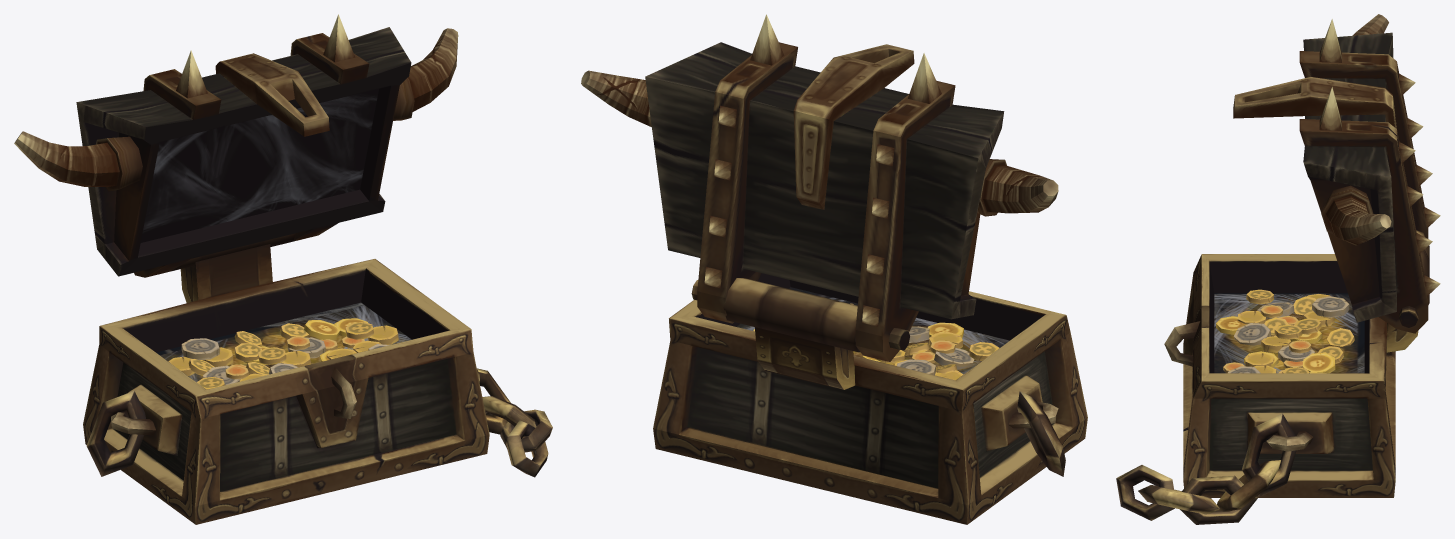
Rendered from Chest_2_gold.FBX.
The picture shows the model from 3 angles, left to right: view 1: azimuth 30°, elevation 25°; view 2: azimuth 150°, elevation 25°; view 3: azimuth 270°, elevation 25°; orthographic projection. The views are drawn at different scales.
Parts seen in each view (by area): view 1: Chest_2, Chest_2_cap; view 2: Chest_2_cap, Chest_2; view 3: Chest_2, Chest_2_cap.
Boxes of the visible parts, <box> form: Chest_2: <box>83,233,552,524</box>; Chest_2_cap: <box>14,14,458,277</box>; Chest_2_cap: <box>581,14,1058,361</box>; Chest_2: <box>653,273,1087,524</box>; Chest_2: <box>1116,230,1429,524</box>; Chest_2_cap: <box>1233,14,1440,333</box>.
Bounding box in the file's own units: 143 × 124 × 95.3.
